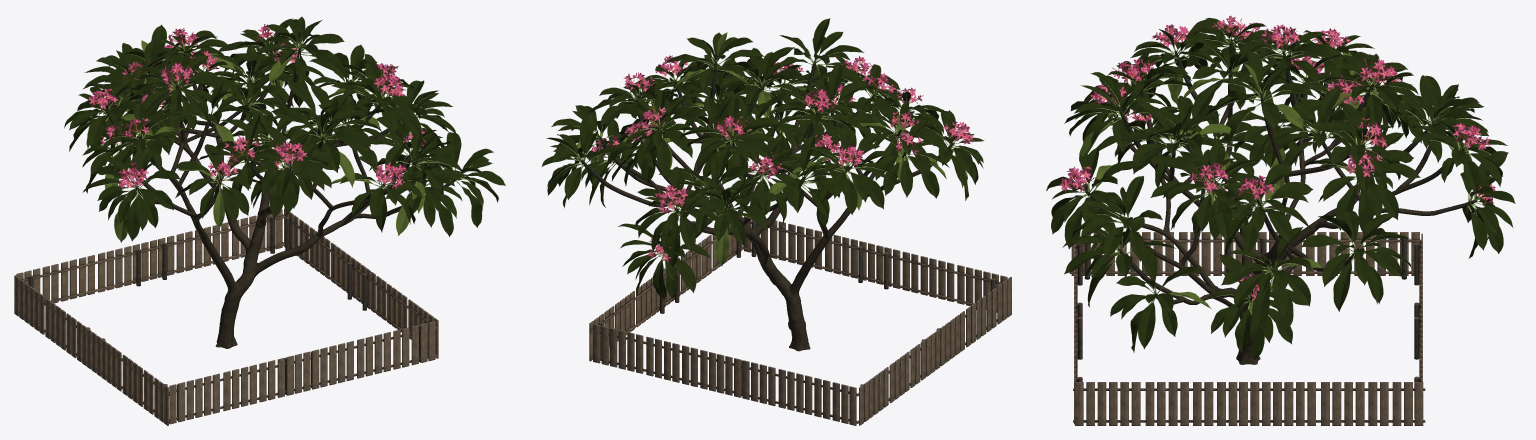
The picture shows the model from 3 angles, left to right: view 1: azimuth 30°, elevation 25°; view 2: azimuth 150°, elevation 25°; view 3: azimuth 270°, elevation 25°; orthographic projection. The views are drawn at different scales.
Parts seen in each view (by area): view 1: Plumeria_rubra_pink_HD, wooden fence_wooden fence_0.003; view 2: Plumeria_rubra_pink_HD, wooden fence_wooden fence_0.003; view 3: Plumeria_rubra_pink_HD, wooden fence_wooden fence_0.003.
Boxes of the visible parts, x1,y1,x2,y2 form: Plumeria_rubra_pink_HD: [64, 16, 505, 348]; wooden fence_wooden fence_0.003: [14, 208, 438, 425]; Plumeria_rubra_pink_HD: [542, 18, 984, 351]; wooden fence_wooden fence_0.003: [589, 213, 1011, 425]; Plumeria_rubra_pink_HD: [1046, 15, 1515, 364]; wooden fence_wooden fence_0.003: [1069, 232, 1425, 425].
Size of the model in its own units: 47.6 by 33.91 by 43.33.
17 materials, 17 textured.
